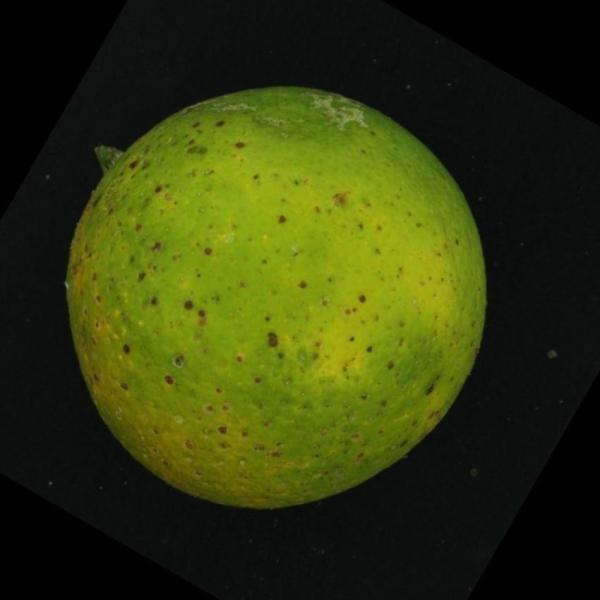Greening: (51, 76, 498, 517)
